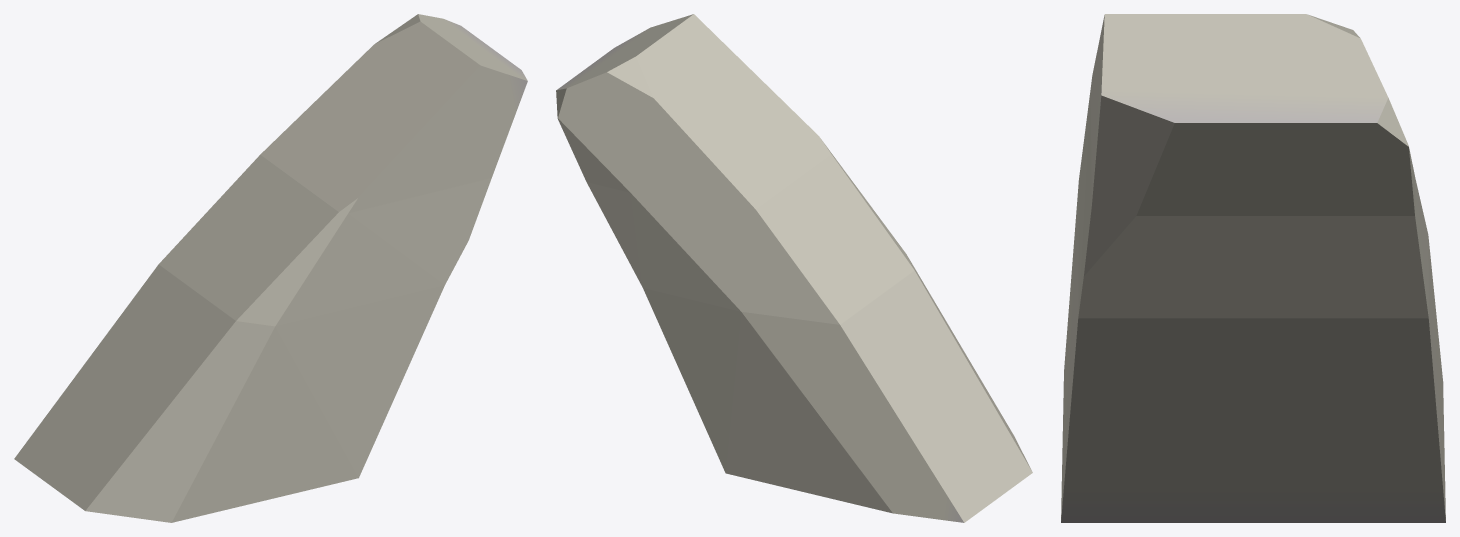
File: Rock_Square_l_04.fbx
3 renders of one model, left to right at view 1: azimuth 30°, elevation 25°; view 2: azimuth 150°, elevation 25°; view 3: azimuth 270°, elevation 25°, orthographic. The views are drawn at different scales.
Visible parts, largest first — view 1: Rock_Square_l_04; view 2: Rock_Square_l_04; view 3: Rock_Square_l_04.
Part boxes in pixels (box(x1,y1,x2,y2)): Rock_Square_l_04: box(14, 14, 527, 522); Rock_Square_l_04: box(556, 14, 1032, 522); Rock_Square_l_04: box(1061, 14, 1445, 522).
Bounding box in the file's own units: 494 × 401 × 226.
